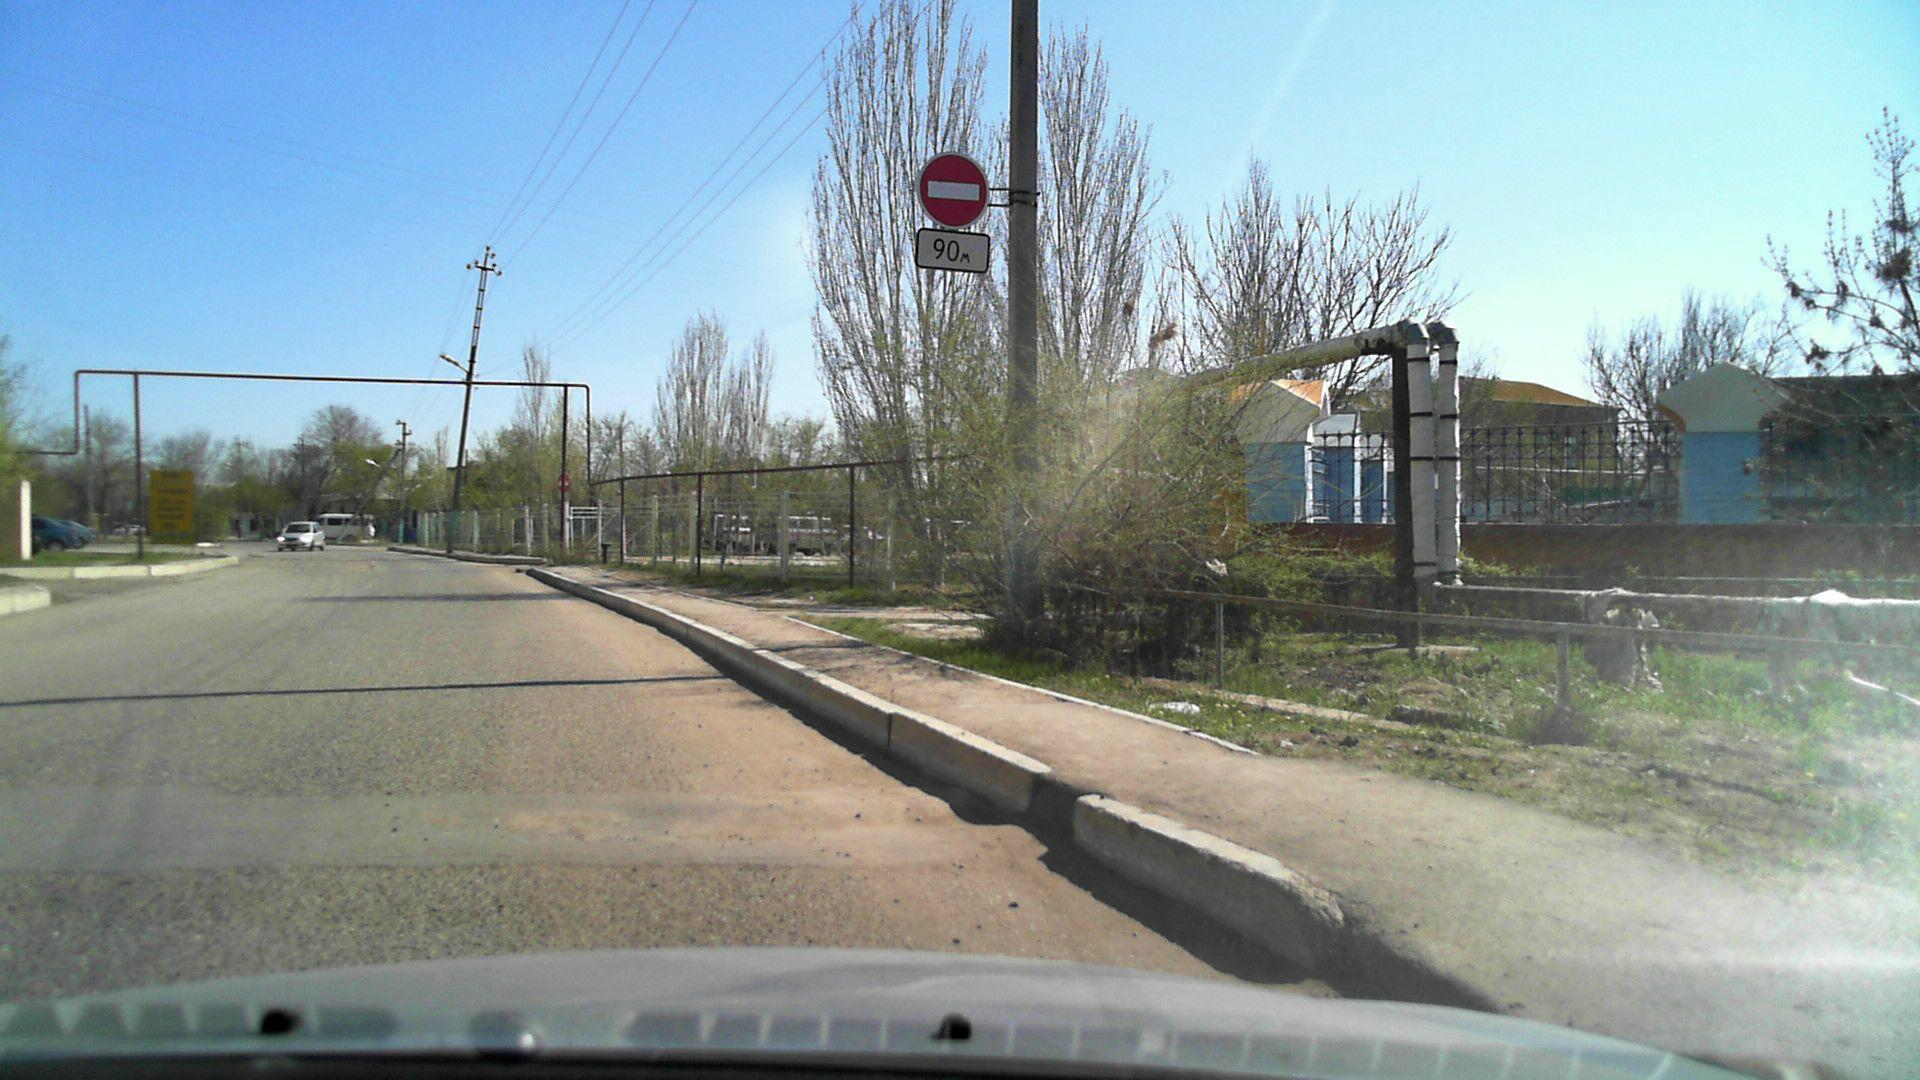3_1: (913, 150, 993, 226), (555, 473, 573, 492)
8_1_1: (914, 226, 991, 274)
